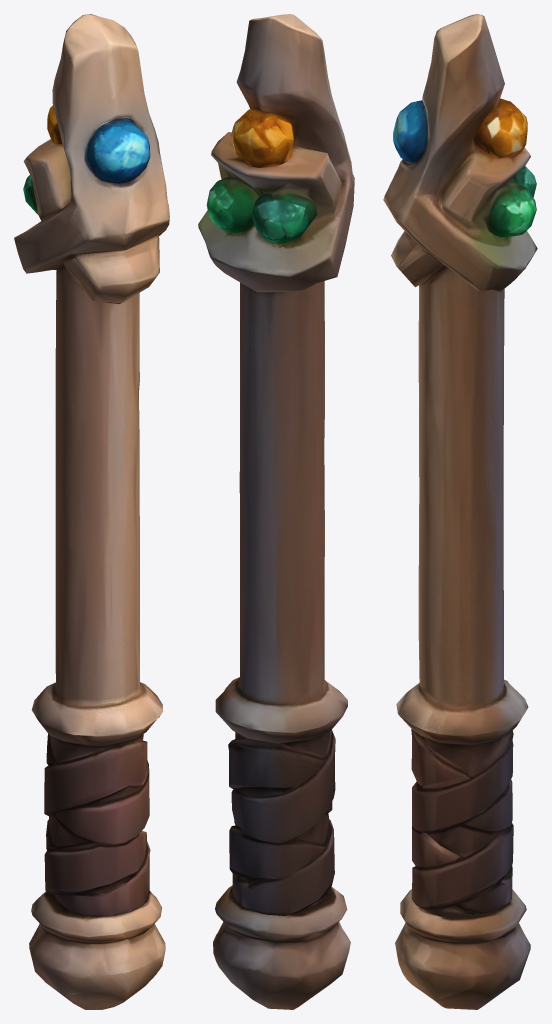
Rendered from w_wood--wand.glb.
3 renders of one model, left to right at view 1: azimuth 30°, elevation 25°; view 2: azimuth 150°, elevation 25°; view 3: azimuth 270°, elevation 25°, orthographic.
Parts seen in each view (by area): view 1: Weapon; view 2: Weapon; view 3: Weapon.
Part boxes in pixels (left/top/right/bottom): Weapon: left=14, top=14, right=169, bottom=1009; Weapon: left=198, top=14, right=354, bottom=1009; Weapon: left=383, top=14, right=537, bottom=1009.
Size of the model in its own units: 0.1369 by 0.9811 by 0.1393.
Materials: 1 (1 with a texture image).
